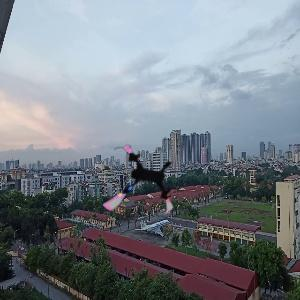drone: (96, 140, 186, 230)
